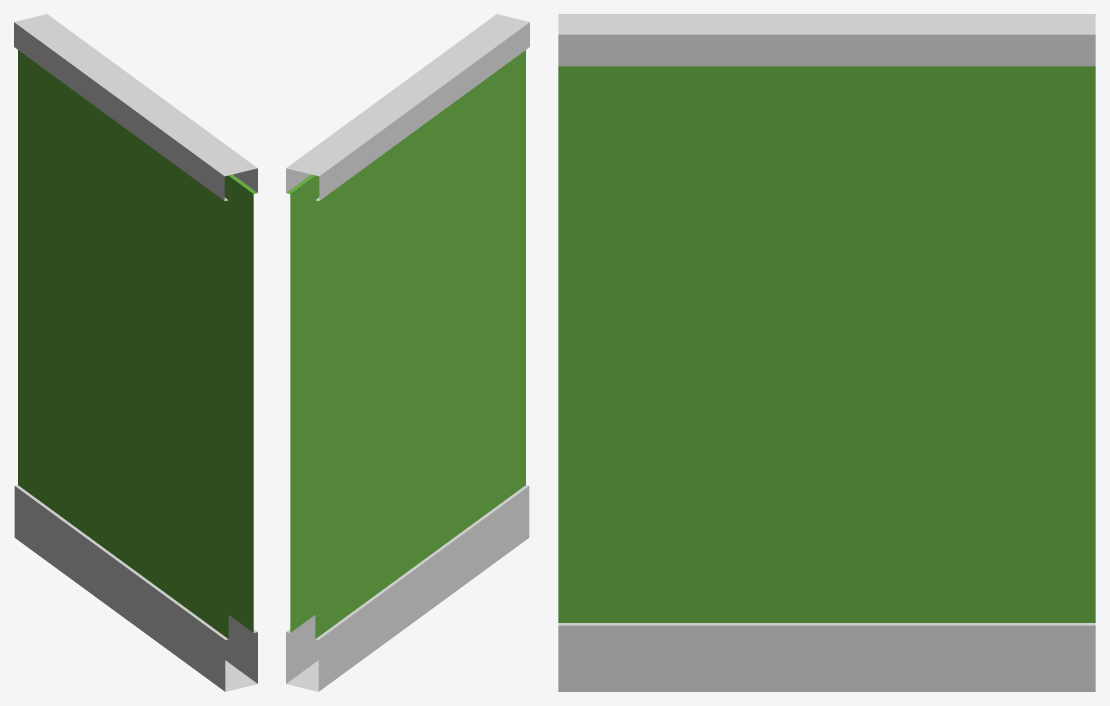
The model's file is wall_plain.fbx.
3 renders of one model, left to right at view 1: azimuth 30°, elevation 25°; view 2: azimuth 150°, elevation 25°; view 3: azimuth 270°, elevation 25°, orthographic. The views are drawn at different scales.
Parts seen in each view (by area): view 1: wall_plain; view 2: wall_plain; view 3: wall_plain.
Part boxes in pixels (bbox=[...]): wall_plain: bbox=[14, 14, 257, 691]; wall_plain: bbox=[286, 14, 529, 691]; wall_plain: bbox=[558, 14, 1095, 691].
Size of the model in its own units: 18.19 by 270 by 200.
